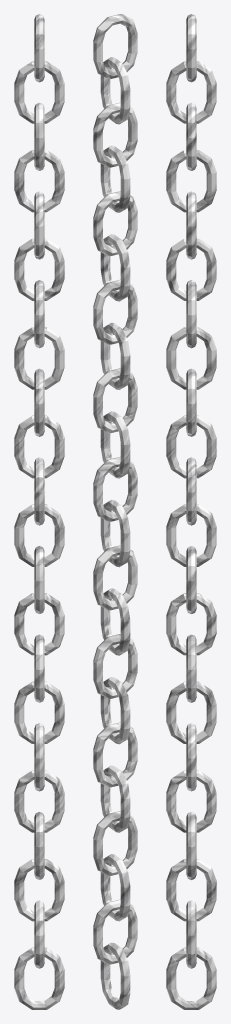
Rendered from lancuch3.fbx.
3 views of the same model, side by side, from view 1: azimuth 90°, elevation 25°; view 2: azimuth 210°, elevation 25°; view 3: azimuth 270°, elevation 25° (orthographic).
Parts seen in each view (by area): view 1: Lancuch3; view 2: Lancuch3; view 3: Lancuch3.
Boxes of the visible parts, left/top/right/bottom form: Lancuch3: left=14, top=14, right=64, bottom=1009; Lancuch3: left=93, top=14, right=137, bottom=1009; Lancuch3: left=166, top=14, right=216, bottom=1009.
Bounding box in the file's own units: 30.47 × 662 × 30.47.
